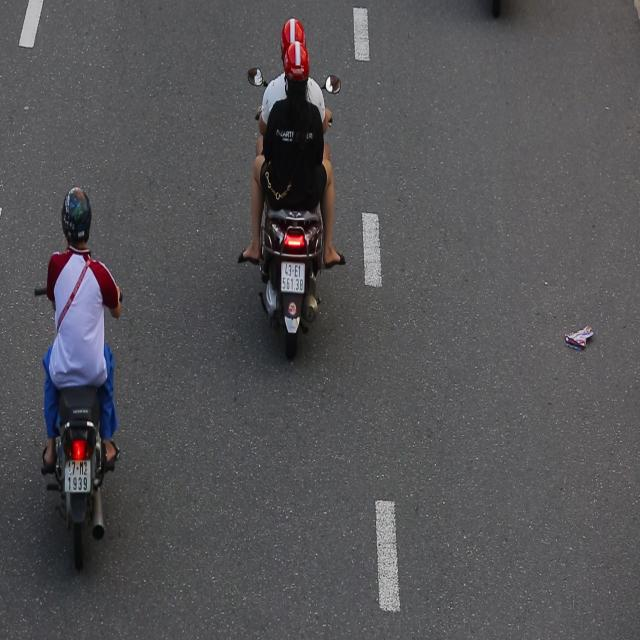motorbike: (25, 186, 125, 584), (240, 22, 348, 366)
